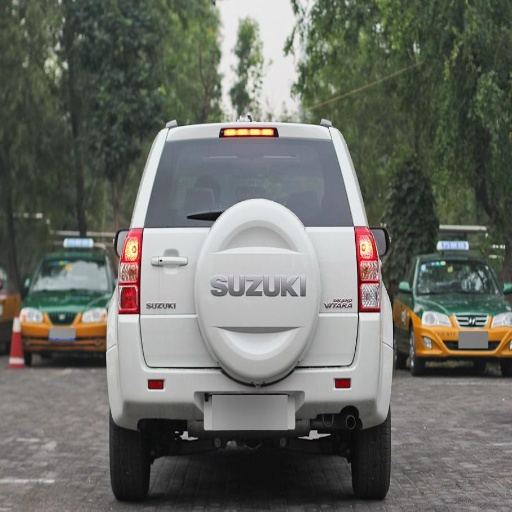tailgate: (203, 288, 341, 379)
trunk: (119, 142, 356, 379)
